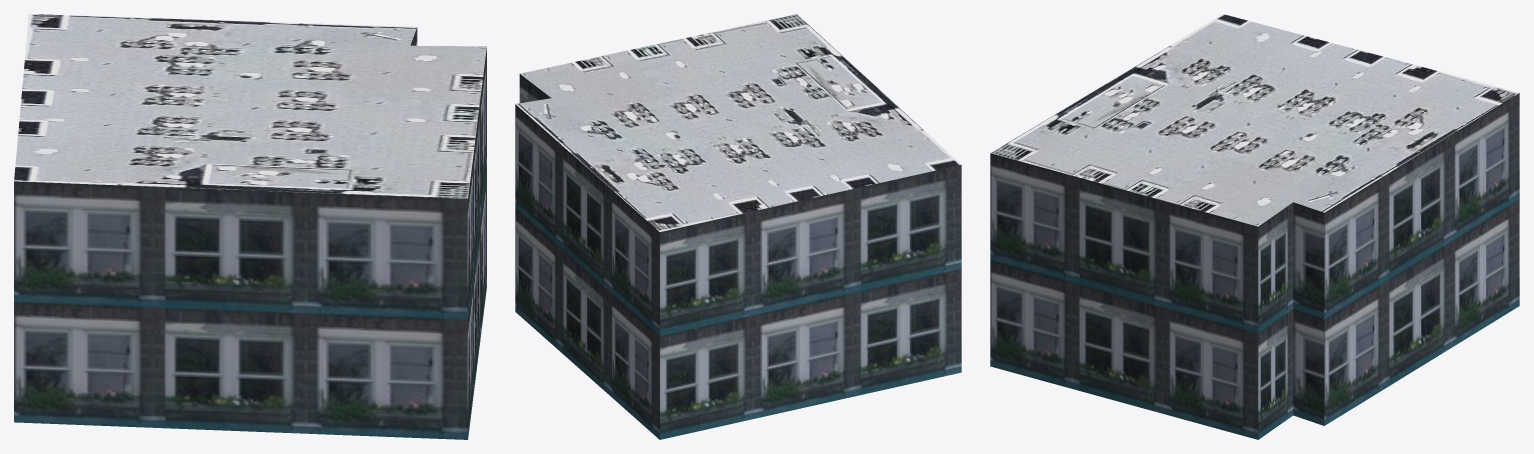
The model's file is ResTex__123.fbx.
The picture shows the model from 3 angles, left to right: view 1: azimuth 30°, elevation 25°; view 2: azimuth 150°, elevation 25°; view 3: azimuth 270°, elevation 25°; orthographic projection. The views are drawn at different scales.
Visible parts, largest first — view 1: CityEngineMaterial_11_m, CityEngineMaterial_8_m; view 2: CityEngineMaterial_11_m, CityEngineMaterial_8_m; view 3: CityEngineMaterial_11_m, CityEngineMaterial_8_m.
Boxes of the visible parts, x1,y1,x2,y2 form: CityEngineMaterial_11_m: (14,27,486,439); CityEngineMaterial_8_m: (14,14,486,198); CityEngineMaterial_11_m: (515,74,961,439); CityEngineMaterial_8_m: (515,14,961,231); CityEngineMaterial_11_m: (990,93,1519,439); CityEngineMaterial_8_m: (990,14,1519,226).
Size of the model in its own units: 12.83 by 6 by 13.49.
Materials: 2 (2 with a texture image).
